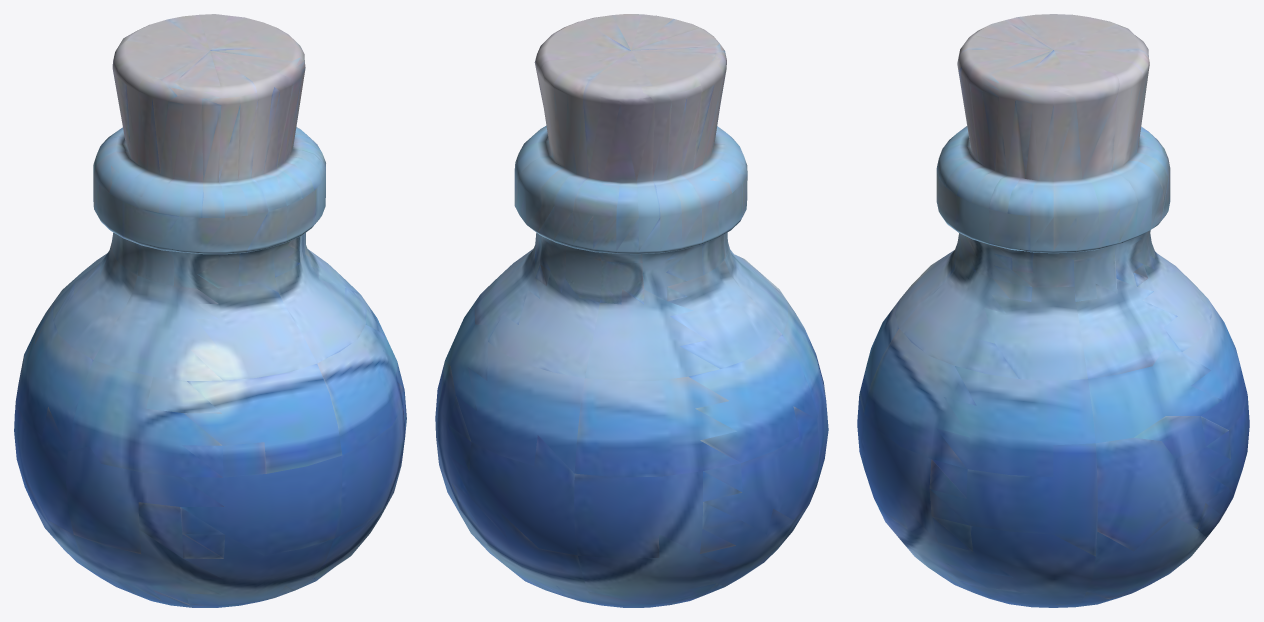
The model's file is item-smellingSalts.glb.
The picture shows the model from 3 angles, left to right: view 1: azimuth 30°, elevation 25°; view 2: azimuth 150°, elevation 25°; view 3: azimuth 270°, elevation 25°; orthographic projection.
Bounding box in the file's own units: 0.646 × 0.9512 × 0.646.
Materials: 1 (1 with a texture image).
